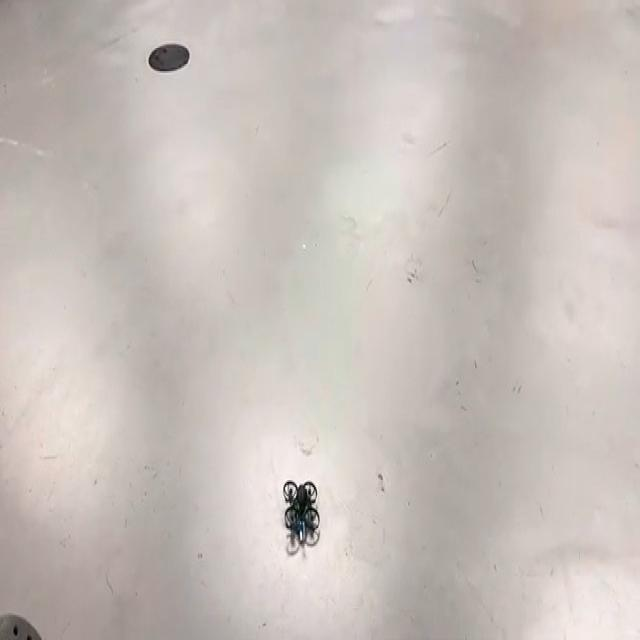drone: (272, 463, 331, 558)
